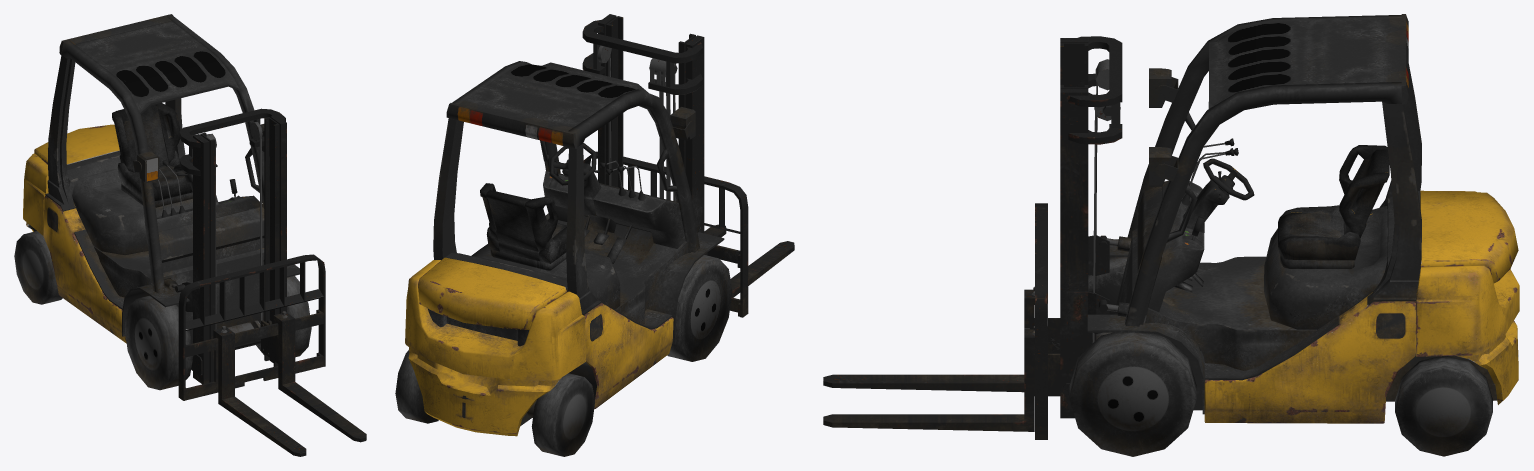
Rendered from car.glb.
3 renders of one model, left to right at view 1: azimuth 30°, elevation 25°; view 2: azimuth 150°, elevation 25°; view 3: azimuth 270°, elevation 25°, orthographic. The views are drawn at different scales.
Visible parts, largest first — view 1: Body; view 2: Body; view 3: Body.
Part boxes in pixels (x1=…): Body: x1=14, y1=14, x2=366, y2=456; Body: x1=395, y1=14, x2=794, y2=456; Body: x1=823, y1=14, x2=1519, y2=456.
Size of what is drawn, in the model's own units: 1.32 by 2.38 by 4.17.
Materials: 1 (1 with a texture image).
